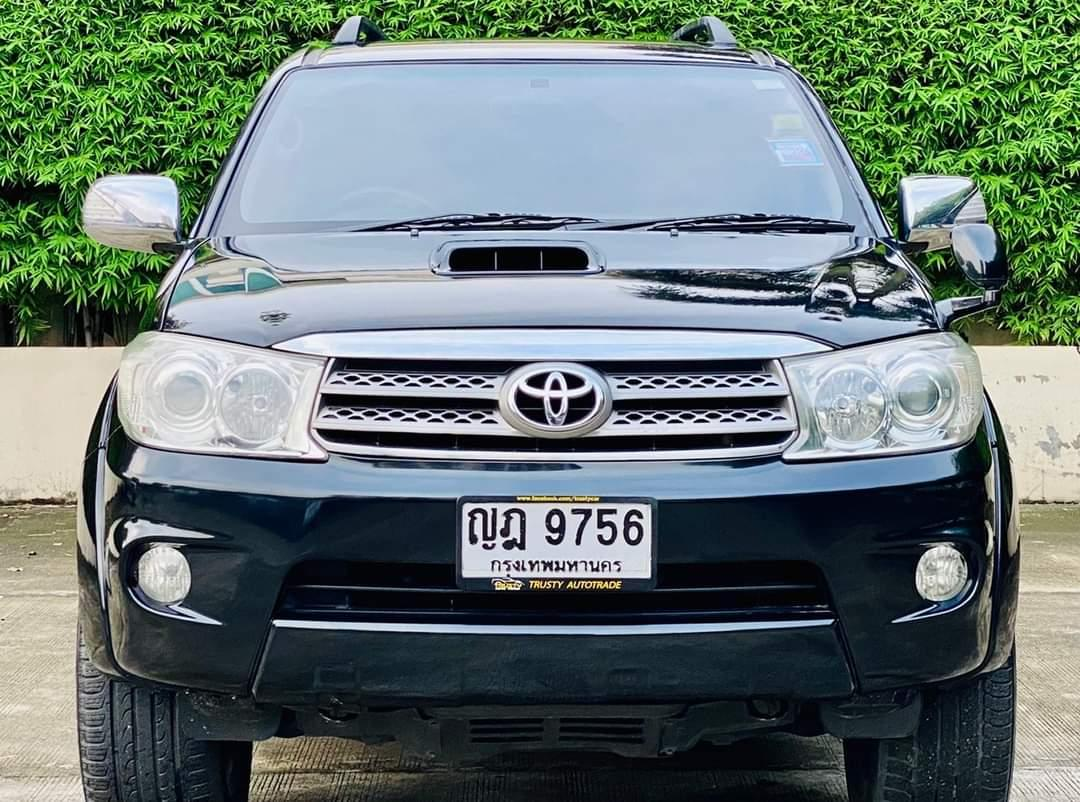license-plate: (456, 492, 658, 596)
